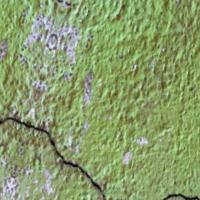crack: (1, 108, 106, 199)
